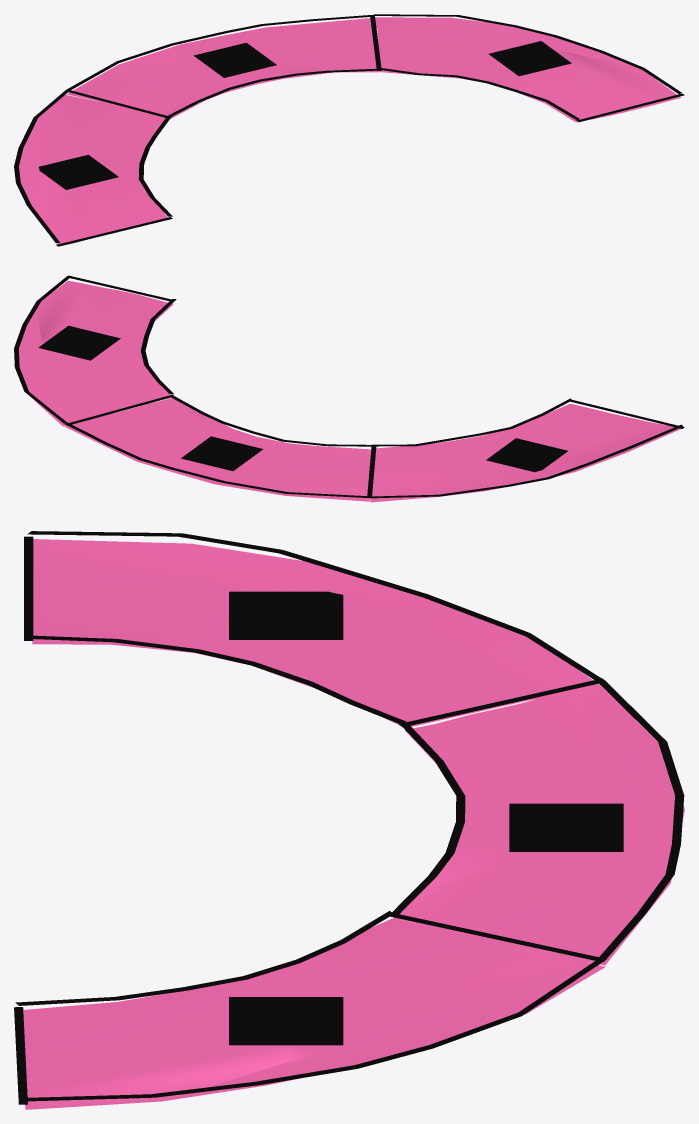
File: SwipePie.fbx
The picture shows the model from 3 angles, top to bottom: view 1: azimuth 30°, elevation 25°; view 2: azimuth 150°, elevation 25°; view 3: azimuth 270°, elevation 25°; orthographic projection. The views are drawn at different scales.
Parts seen in each view (by area): view 1: Right buttons, Left button, Middle button, icon_back 1, icon_back 2.001, icon_back 2, Straight 10, Straight 9, Straight 8, Straight 6, Straight 7, Straight 5; view 2: Right buttons, Middle button, Left button, icon_back 1, icon_back 2.001, icon_back 2, Straight 8, Straight 9, Straight 10, Straight 6, Straight 5, Straight 7; view 3: Right buttons, Left button, Middle button, icon_back 1, icon_back 2.001, icon_back 2, Straight 10, Straight 8, Straight 9, Straight 7, Straight 5, Straight 6 (+4 smaller).
Part boxes in pixels (x1,y1,x2,y2): Right buttons: (375,17,681,122); Left button: (15,95,167,244); Middle button: (66,18,379,118); icon_back 1: (193,42,276,77); icon_back 2.001: (489,41,571,76); icon_back 2: (39,154,118,189); Straight 10: (372,14,681,94); Straight 9: (66,15,374,91); Straight 8: (14,91,67,242); Straight 6: (169,68,381,116); Straight 7: (379,68,579,120); Straight 5: (138,115,172,216); Right buttons: (19,280,173,426); Middle button: (65,398,371,501); Left button: (370,403,681,502); icon_back 1: (181,436,263,470); icon_back 2.001: (38,325,120,360); icon_back 2: (486,438,567,472); Straight 8: (369,424,683,498); Straight 9: (65,423,369,497); Straight 10: (14,276,71,423); Straight 6: (169,395,372,446); Straight 5: (372,398,572,446); Straight 7: (140,299,176,394); Right buttons: (23,918,605,1109); Left button: (32,539,602,726); Middle button: (393,687,684,965); icon_back 1: (509,803,623,851); icon_back 2.001: (229,997,343,1045); icon_back 2: (229,591,343,639); Straight 10: (22,957,605,1101); Straight 8: (27,531,601,679); Straight 9: (596,680,684,959); Straight 7: (15,911,393,1005); Straight 5: (26,635,406,724); Straight 6: (391,723,465,915).
Size of the model in its own units: 43.51 by 0.712 by 21.7.
